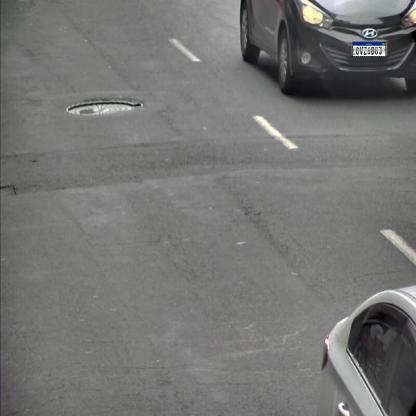PlacaM: (352, 41, 386, 57)
